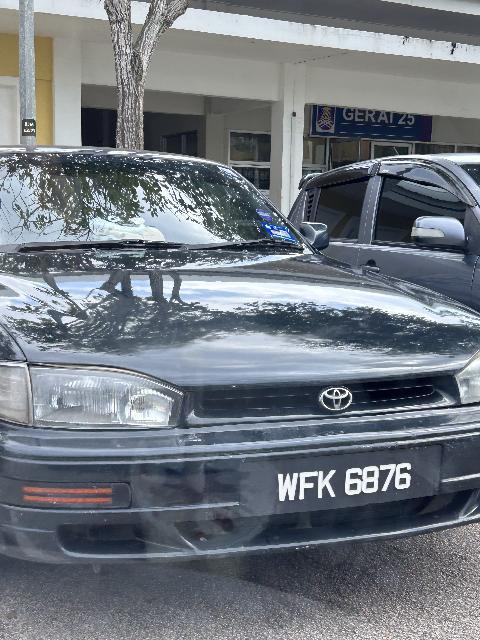License_Plate: (234, 443, 442, 513)
WFK6876: (234, 443, 442, 513)
